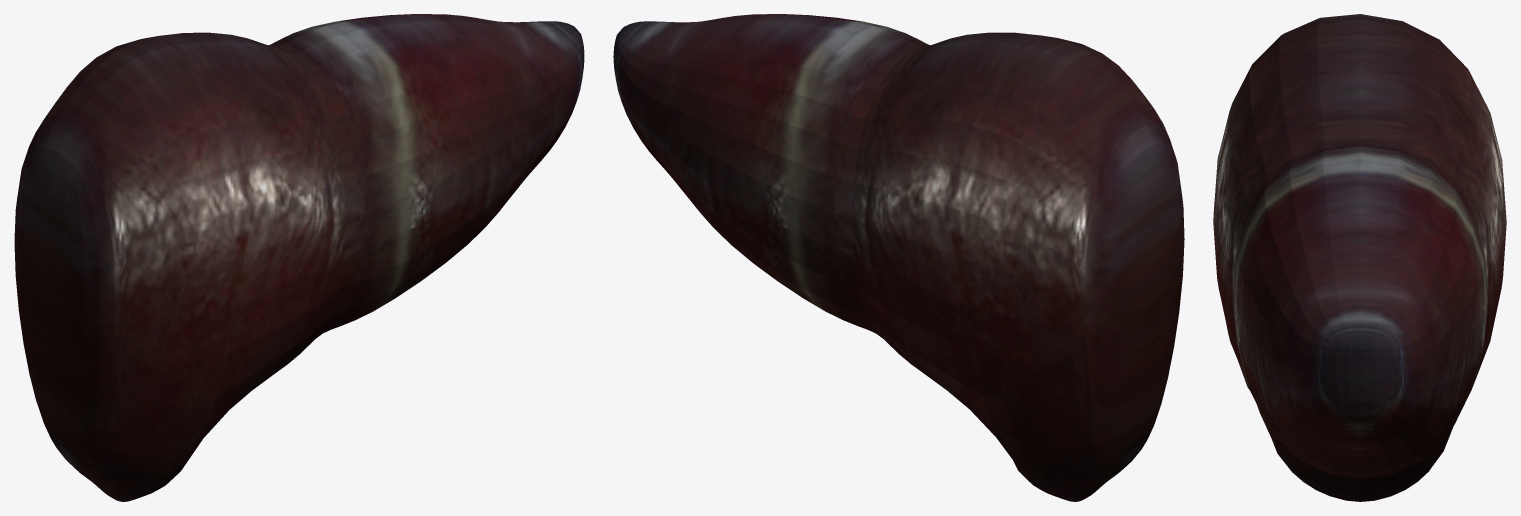
Rendered from Liver.fbx.
3 renders of one model, left to right at view 1: azimuth 30°, elevation 25°; view 2: azimuth 150°, elevation 25°; view 3: azimuth 270°, elevation 25°, orthographic. The views are drawn at different scales.
Parts seen in each view (by area): view 1: Cube; view 2: Cube; view 3: Cube.
Part boxes in pixels (x1,y1,x2,y2): Cube: [14, 14, 584, 501]; Cube: [613, 14, 1184, 501]; Cube: [1213, 14, 1506, 501].
Bounding box in the file's own units: 286 × 226 × 121.
